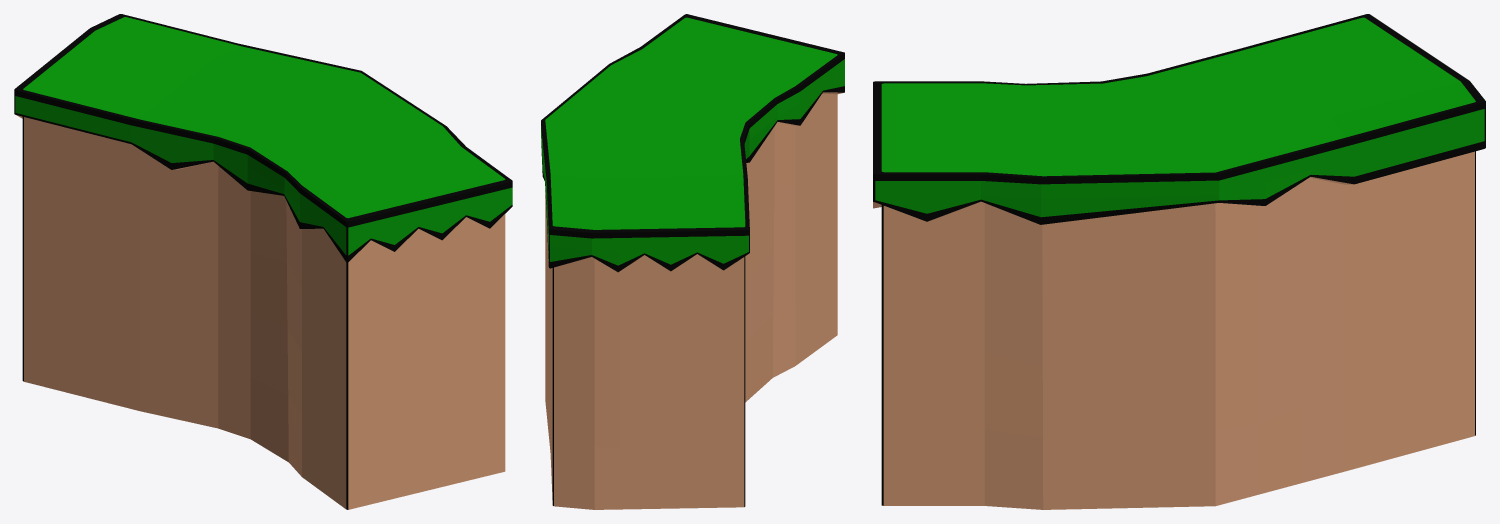
Rendered from CardboardPlatform21.fbx.
The picture shows the model from 3 angles, left to right: view 1: azimuth 30°, elevation 25°; view 2: azimuth 150°, elevation 25°; view 3: azimuth 270°, elevation 25°; orthographic projection. The views are drawn at different scales.
Parts seen in each view (by area): view 1: Cube.040; view 2: Cube.040; view 3: Cube.040.
Part boxes in pixels (box(x1,y1,x2,y2)): Cube.040: box(14, 14, 512, 509); Cube.040: box(541, 14, 844, 509); Cube.040: box(873, 14, 1485, 509).
Size of the model in its own units: 1757 by 1708 by 2820.
